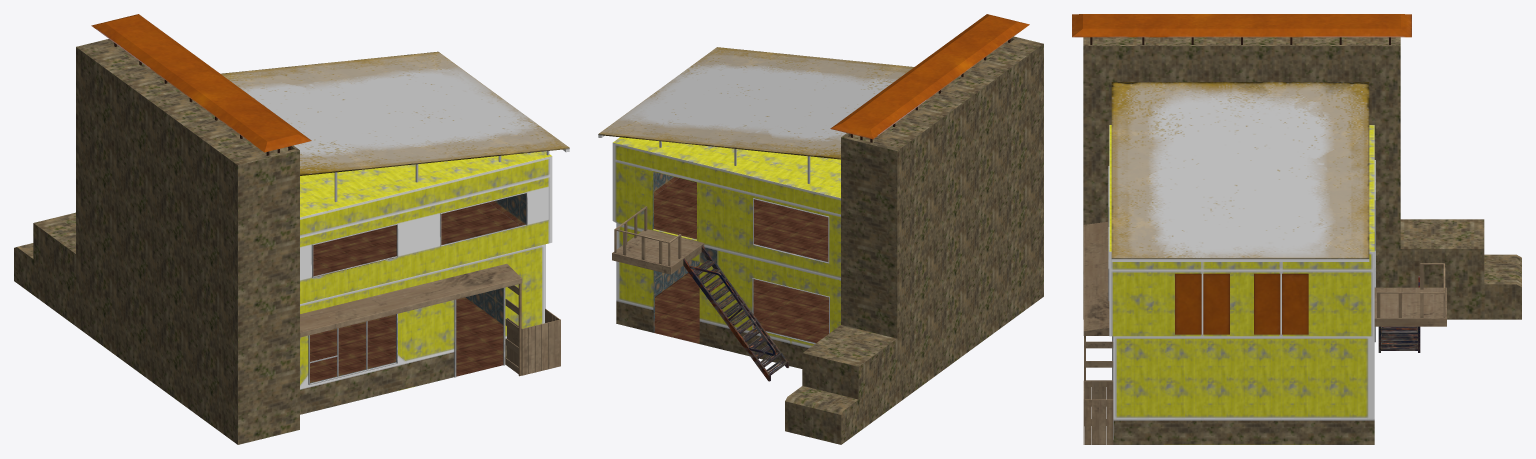
File: Home.fbx
3 views of the same model, side by side, from view 1: azimuth 30°, elevation 25°; view 2: azimuth 150°, elevation 25°; view 3: azimuth 270°, elevation 25° (orthographic). The views are drawn at different scales.
Parts seen in each view (by area): view 1: Home; view 2: Home; view 3: Home.
Boxes of the visible parts, x1,y1,x2,y2 form: Home: (14, 14, 569, 444); Home: (598, 14, 1043, 444); Home: (1072, 14, 1521, 444).
Size of the model in its own units: 1559 by 1274 by 1789.
